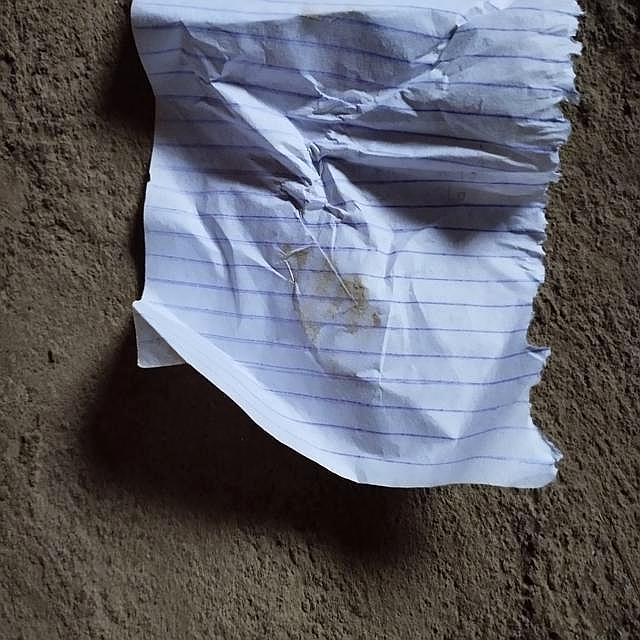Biodegradable: (129, 1, 579, 487)
